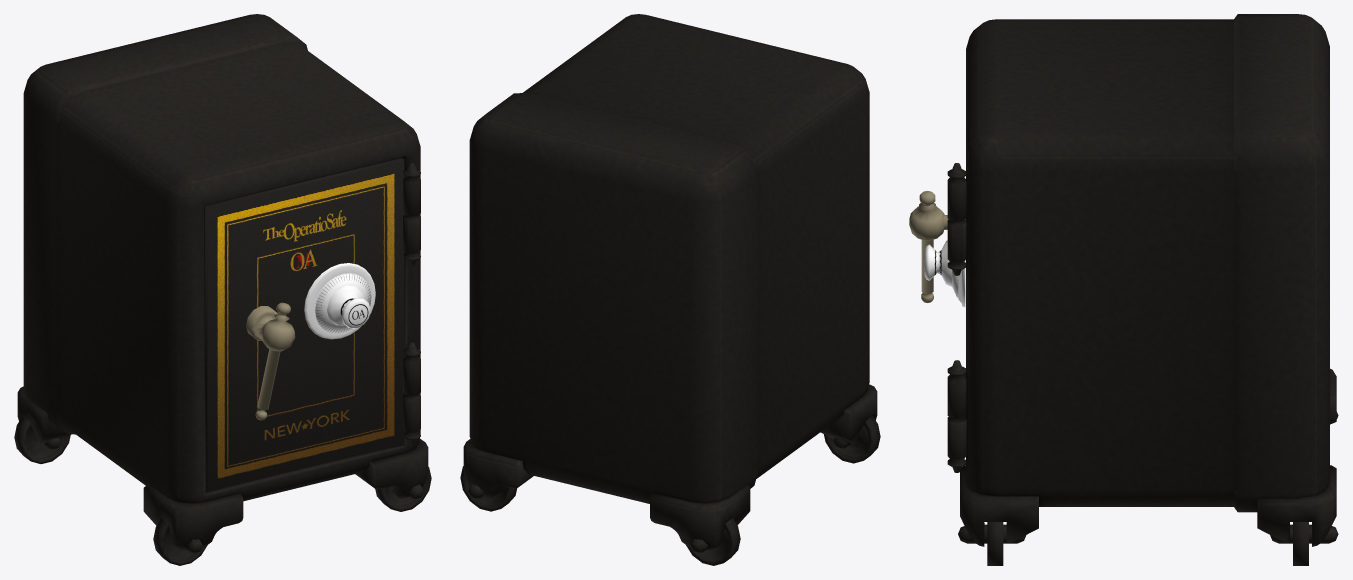
The model's file is VintageSafe1_FBX.fbx.
The picture shows the model from 3 angles, left to right: view 1: azimuth 30°, elevation 25°; view 2: azimuth 150°, elevation 25°; view 3: azimuth 270°, elevation 25°; orthographic projection. The views are drawn at different scales.
Parts seen in each view (by area): view 1: Box, Door, knob, Handle; view 2: Box; view 3: Box, Handle, knob.
Part boxes in pixels (left/top/right/bottom): Box: left=14, top=14, right=431, bottom=565; Door: left=205, top=158, right=404, bottom=491; knob: left=304, top=263, right=375, bottom=339; Handle: left=246, top=302, right=295, bottom=420; Box: left=460, top=14, right=880, bottom=565; Box: left=947, top=14, right=1338, bottom=565; Handle: left=909, top=191, right=965, bottom=302; knob: left=924, top=240, right=965, bottom=307.
Bounding box in the file's own units: 108 × 150 × 135.
